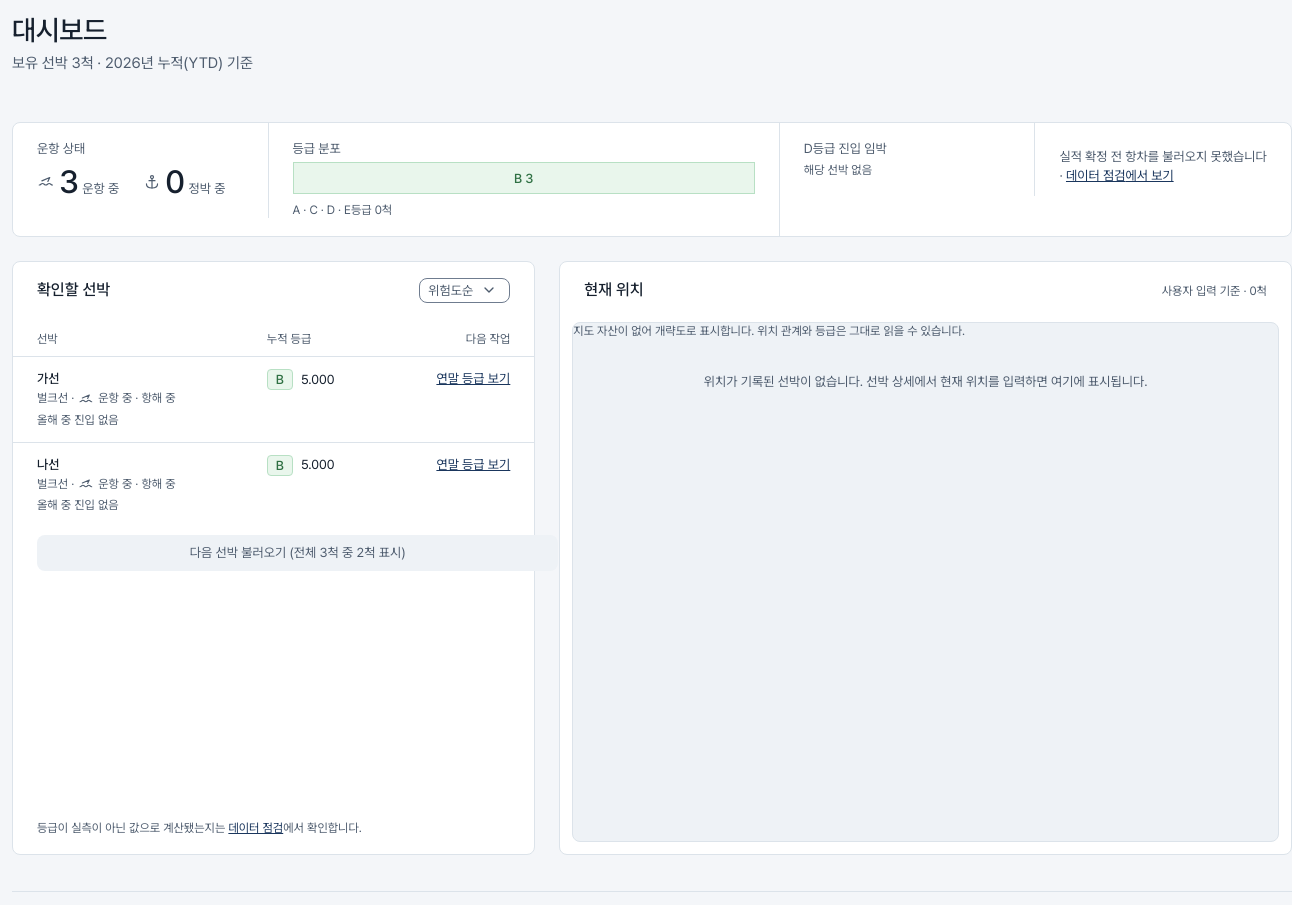
정렬 실패 뒤 복구 (#1814) › 실패 안내는 목록이 어느 정렬 그대로인지 말한다 — 셀렉트는 새 값을 가리키므로
Expected: the link "가선" is shown, [37, 369, 60, 388]
Select "이름순" in the dropdown with test id "fleet-sort" at x=465, y=290, box [419, 278, 510, 303]
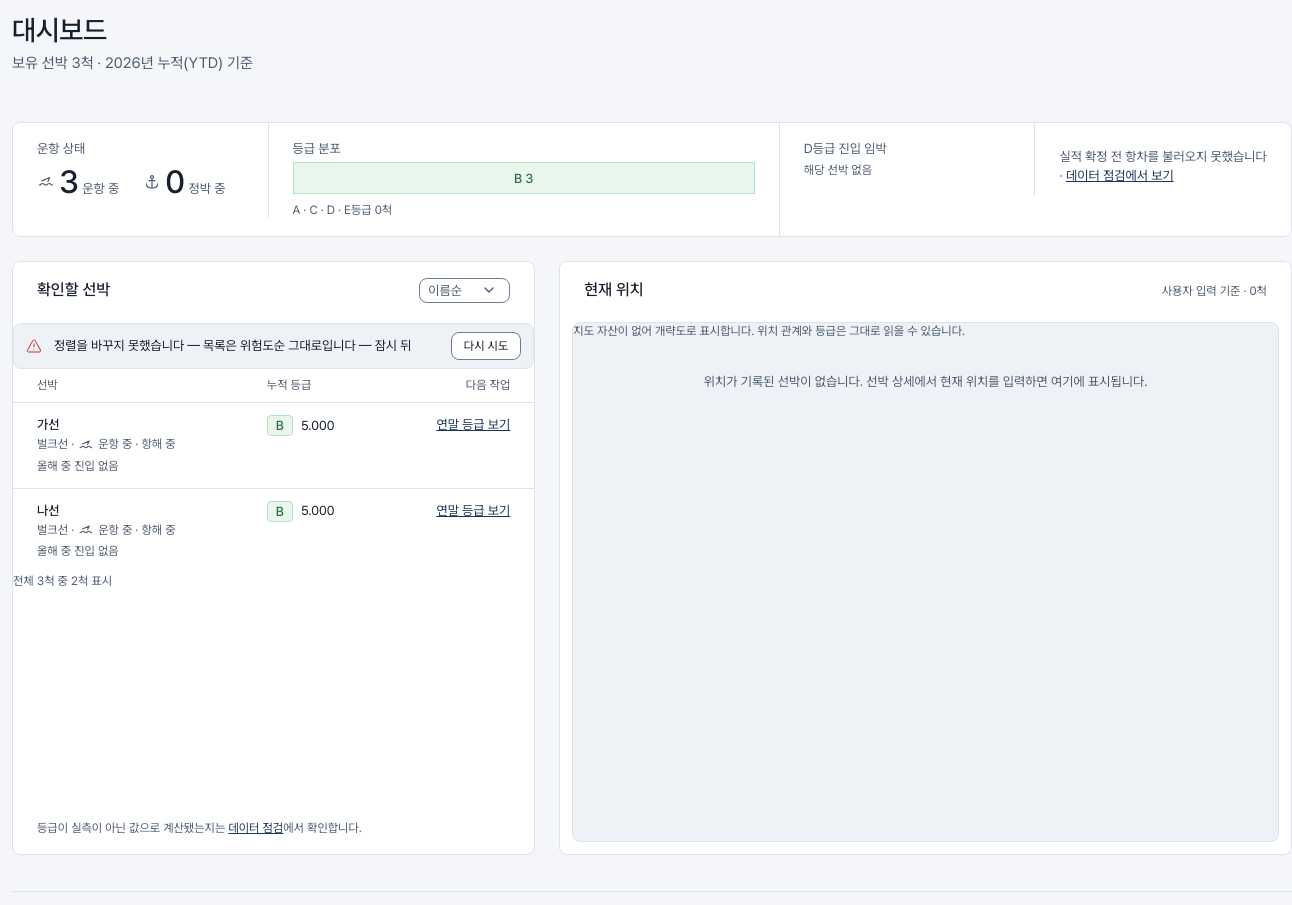
Expected: the message does not show "이름순"
Now the message shows "위험도순", box [54, 338, 412, 353]
Now the message shows "잠시 뒤", box [54, 338, 412, 353]
